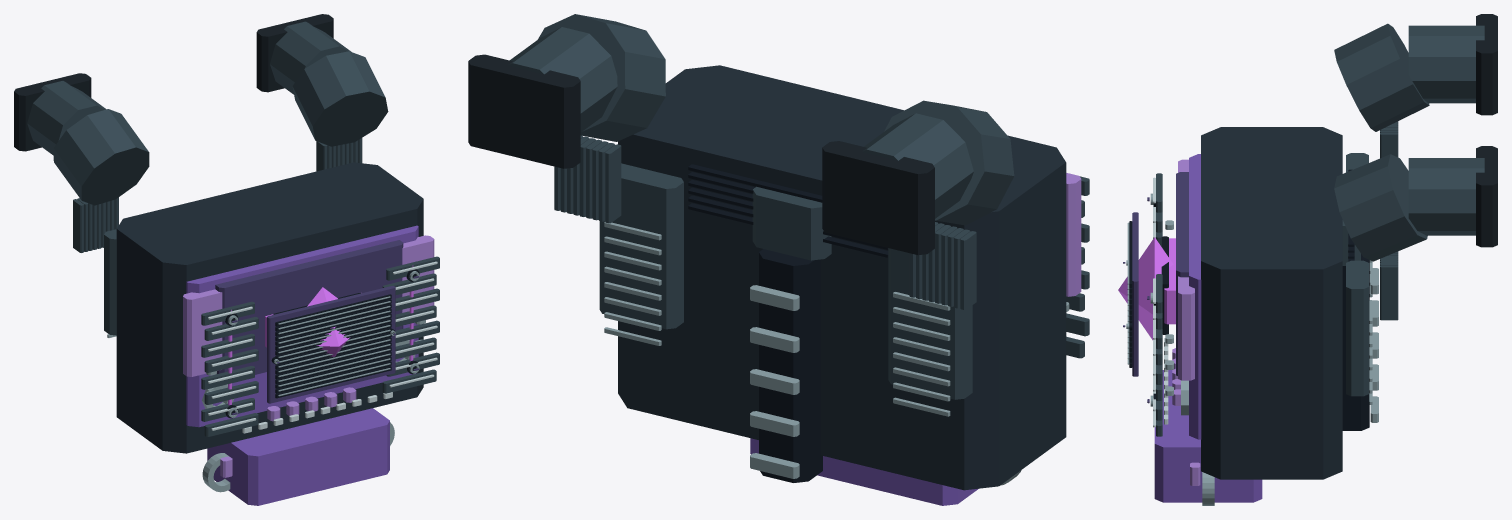
The model's file is enemy_tank_4k_body.obj.
The picture shows the model from 3 angles, left to right: view 1: azimuth 30°, elevation 25°; view 2: azimuth 150°, elevation 25°; view 3: azimuth 270°, elevation 25°; orthographic projection. The views are drawn at different scales.
Size of the model in its own units: 1.66 by 1.67 by 1.56.
